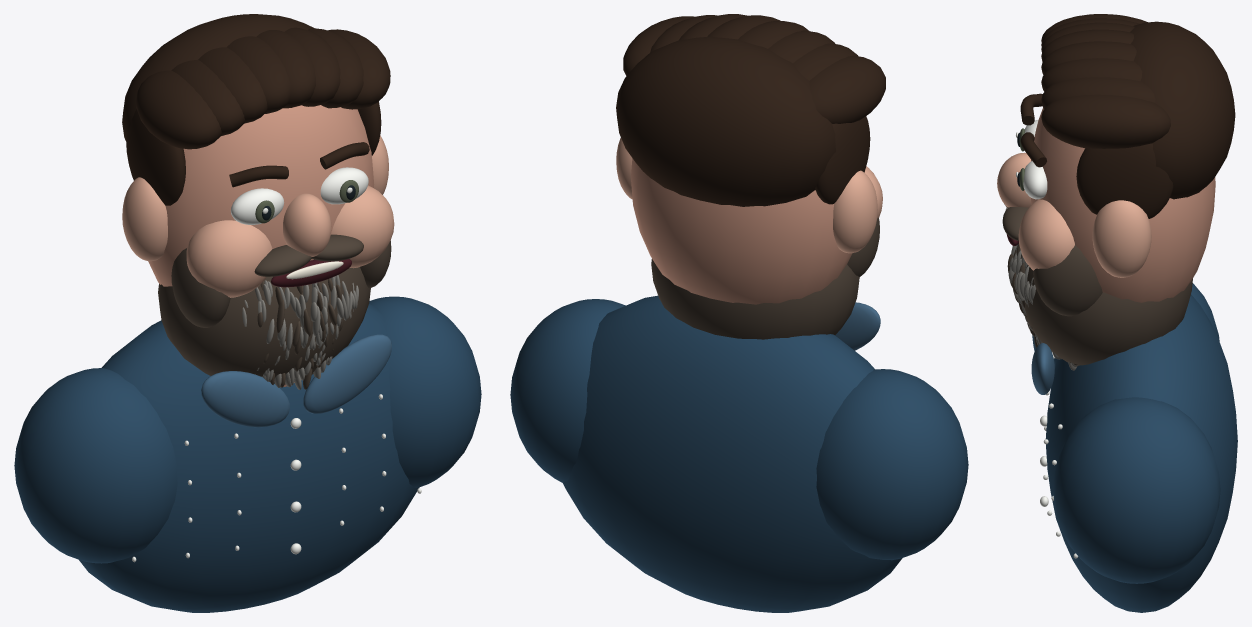
File: john.glb
3 views of the same model, side by side, from view 1: azimuth 30°, elevation 25°; view 2: azimuth 150°, elevation 25°; view 3: azimuth 270°, elevation 25° (orthographic). The views are drawn at different scales.
Visible parts, largest first — view 1: shirt, eyebrow, face, cheek, beard_mass, shirt_collar, moustache, beard_strand.001, eye_glint, eye_glint.001, pal_mouth, button; view 2: shirt, eyebrow, face, beard_mass, cheek, shirt_collar, moustache; view 3: shirt, eyebrow, face, beard_mass, cheek, moustache, beard_strand.001, shirt_collar, eye_glint.001, button.
Part boxes in pixels (x1,y1,x2,y2): shirt: [14, 296, 481, 612]; eyebrow: [122, 14, 390, 205]; face: [148, 105, 374, 286]; cheek: [122, 135, 394, 297]; beard_mass: [158, 267, 370, 389]; shirt_collar: [201, 334, 391, 427]; moustache: [171, 234, 391, 327]; beard_strand.001: [242, 275, 358, 389]; eye_glint: [230, 188, 284, 224]; eye_glint.001: [320, 167, 368, 204]; pal_mouth: [271, 259, 351, 287]; button: [132, 394, 421, 562]; shirt: [510, 295, 968, 612]; eyebrow: [616, 14, 885, 206]; face: [631, 158, 852, 304]; beard_mass: [651, 259, 859, 339]; cheek: [616, 137, 882, 253]; shirt_collar: [835, 302, 880, 350]; moustache: [847, 218, 879, 277]; shirt: [1045, 283, 1237, 612]; eyebrow: [1020, 14, 1235, 218]; face: [1031, 107, 1215, 302]; beard_mass: [1007, 244, 1192, 365]; cheek: [997, 152, 1151, 277]; moustache: [1002, 204, 1102, 316]; beard_strand.001: [1008, 244, 1077, 370]; shirt_collar: [1031, 335, 1054, 394]; eye_glint.001: [1016, 161, 1047, 199]; button: [1040, 355, 1078, 558].
Size of the model in its own units: 2 by 2.47 by 0.977.
